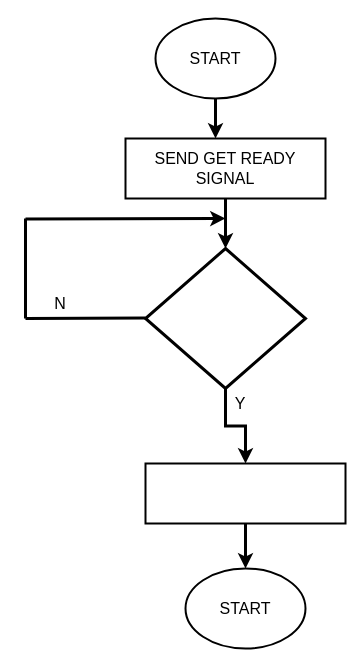
This 364x666 diagram has some shape labels left out. Each missing label, with the centre of its shape:
EXECUTE I/O INSTRUCTION: the point at 245,493
IS THE DEVICE READY?: the point at 225,318
